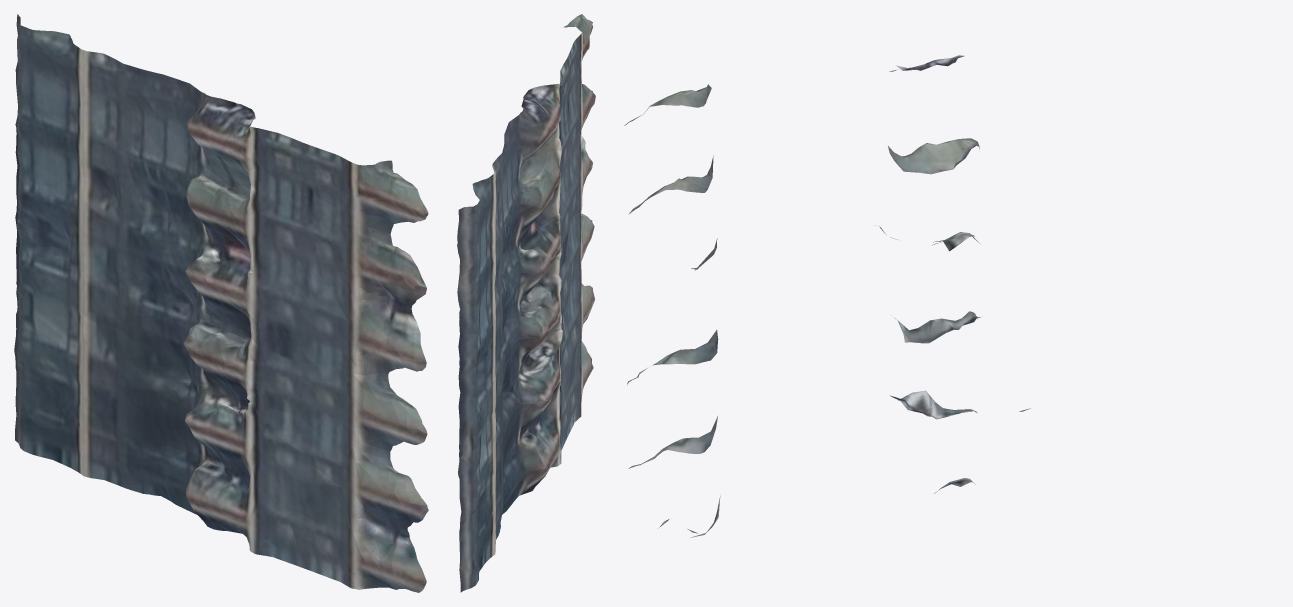
Rendered from Tile_+012_+008_L21_0000031110.glb.
The picture shows the model from 3 angles, left to right: view 1: azimuth 30°, elevation 25°; view 2: azimuth 150°, elevation 25°; view 3: azimuth 270°, elevation 25°; orthographic projection. The views are drawn at different scales.
Visible parts, largest first — view 1: rtc; view 2: rtc; view 3: rtc.
Boxes of the visible parts, x1=… form: rtc: x1=14, y1=14, x2=428, y2=592; rtc: x1=457, y1=14, x2=595, y2=592; rtc: x1=624, y1=55, x2=1030, y2=537.
Size of the model in its own units: 6.71 by 19.08 by 22.69.
1 material, 1 textured.
